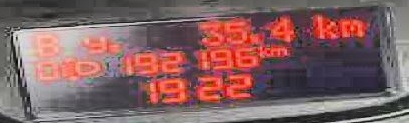-: (244, 30, 262, 43), (104, 42, 124, 52)
0: (33, 58, 57, 80)
1: (144, 77, 157, 104), (195, 48, 206, 70), (122, 54, 131, 74)
2: (224, 73, 251, 98), (195, 74, 220, 100), (157, 49, 182, 73)
3: (195, 20, 220, 44)
4: (266, 15, 293, 40)
5: (222, 20, 244, 43)
6: (233, 45, 255, 68)
9: (157, 77, 184, 102), (206, 47, 233, 68), (133, 51, 155, 74)
X: (313, 12, 335, 39), (33, 32, 57, 56), (337, 17, 362, 37), (80, 34, 104, 54), (269, 45, 287, 54), (258, 44, 267, 55)
